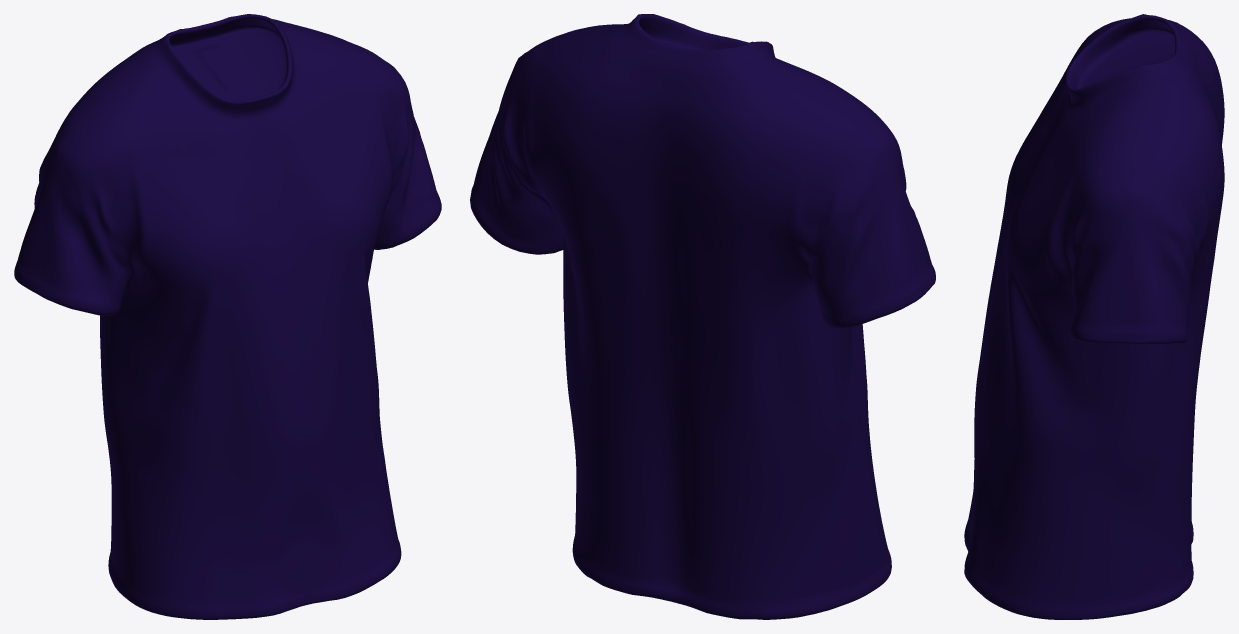
Rendered from plain_dark_blue_t-shirt.glb.
3 views of the same model, side by side, from view 1: azimuth 30°, elevation 25°; view 2: azimuth 150°, elevation 25°; view 3: azimuth 270°, elevation 25° (orthographic). The views are drawn at different scales.
Parts seen in each view (by area): view 1: Object_2; view 2: Object_2; view 3: Object_2.
Part boxes in pixels (left/top/right/bottom): Object_2: left=14, top=14, right=441, bottom=619; Object_2: left=470, top=14, right=935, bottom=619; Object_2: left=964, top=14, right=1224, bottom=619.
Bounding box in the file's own units: 1.58 × 1.9 × 0.8654.
